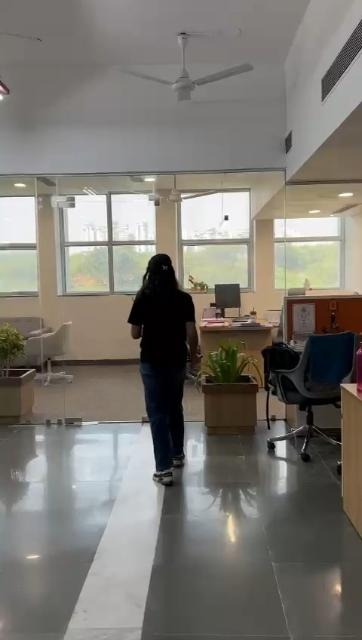floor: (0, 367, 362, 640)
moving-obj: (108, 222, 236, 500)
object: (270, 315, 362, 461), (0, 298, 78, 428), (214, 338, 270, 448), (210, 280, 242, 316)
